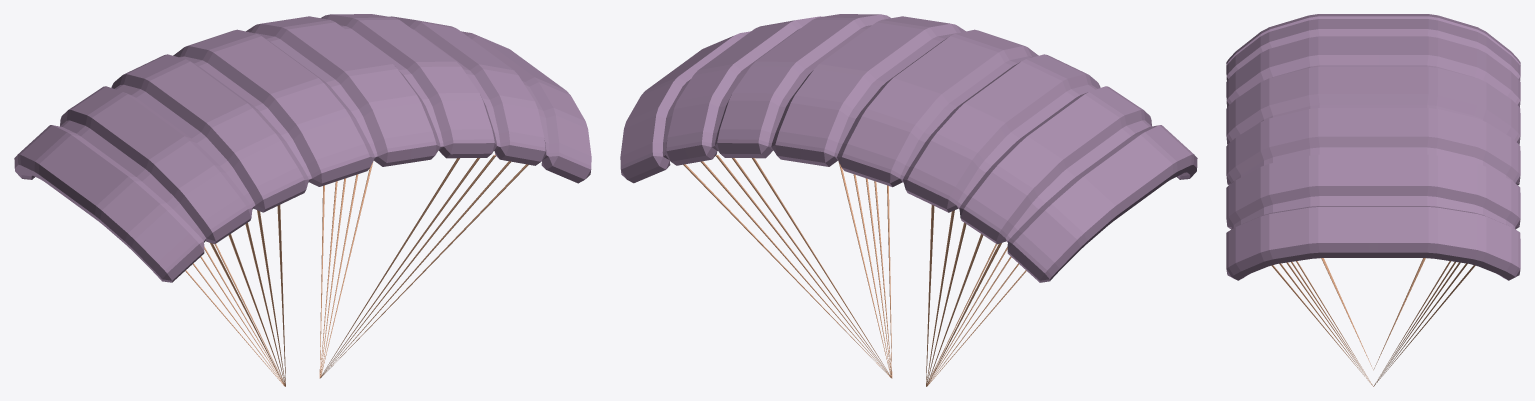
Rendered from Paraquedas.fbx.
3 views of the same model, side by side, from view 1: azimuth 30°, elevation 25°; view 2: azimuth 150°, elevation 25°; view 3: azimuth 270°, elevation 25° (orthographic). The views are drawn at different scales.
Parts seen in each view (by area): view 1: polySurface14, polySurface15; view 2: polySurface14, polySurface15; view 3: polySurface14, polySurface15.
Part boxes in pixels (x1,y1,x2,y2): polySurface14: [14, 14, 591, 282]; polySurface15: [185, 155, 528, 386]; polySurface14: [620, 14, 1197, 282]; polySurface15: [683, 155, 1026, 386]; polySurface14: [1226, 14, 1520, 280]; polySurface15: [1271, 258, 1475, 386].
Size of the model in its own units: 79.25 by 52.74 by 44.23.
